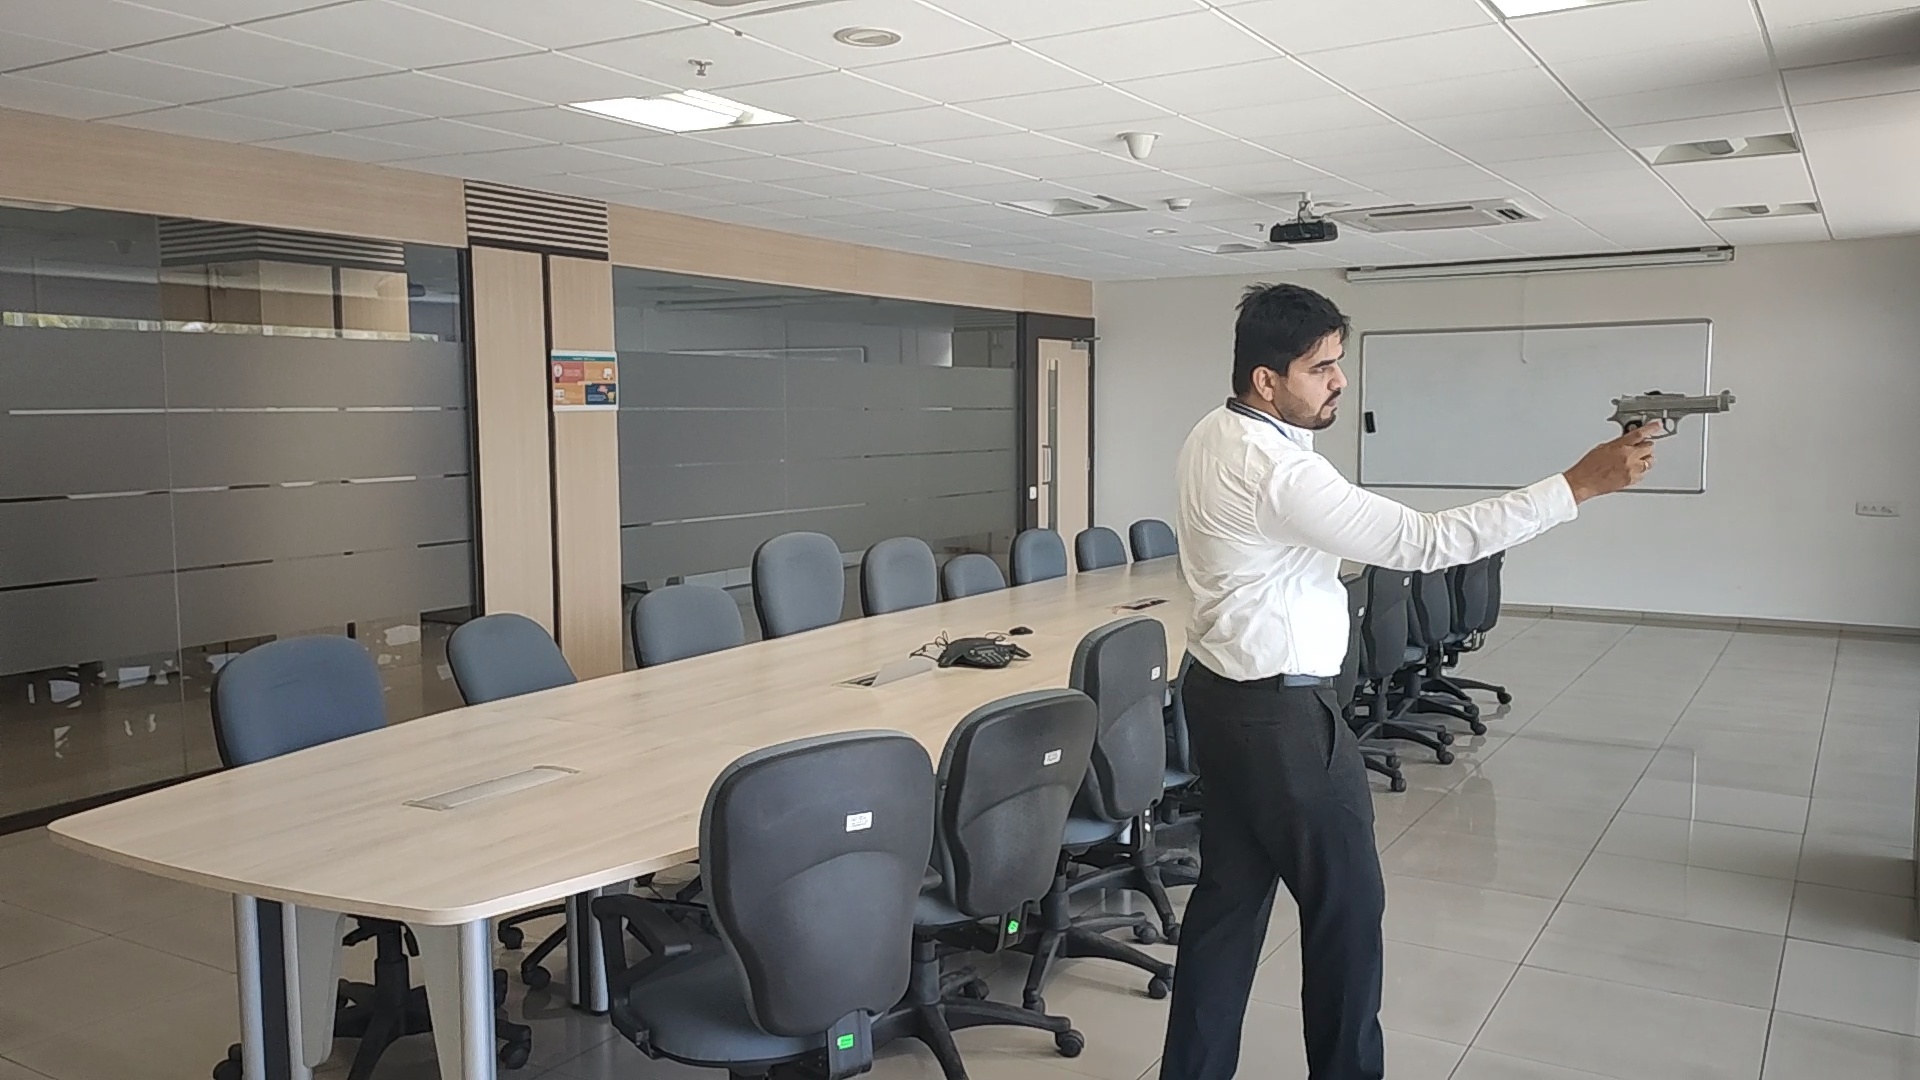gun: (1605, 389, 1737, 421)
